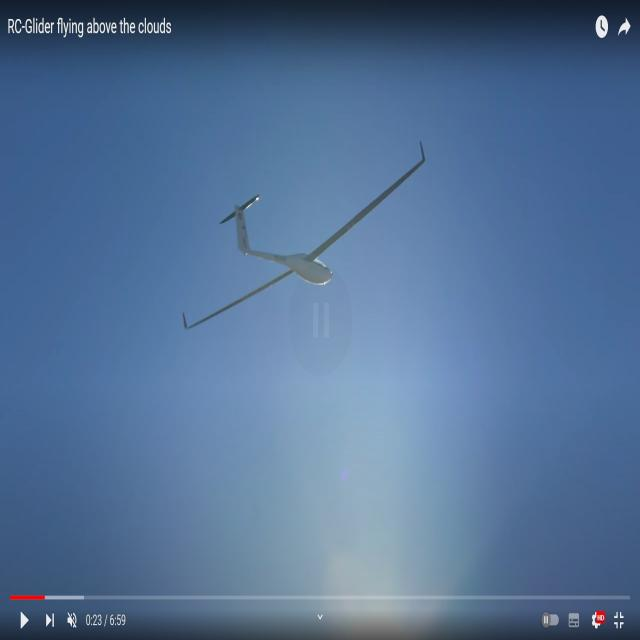iha: (176, 142, 431, 341)
